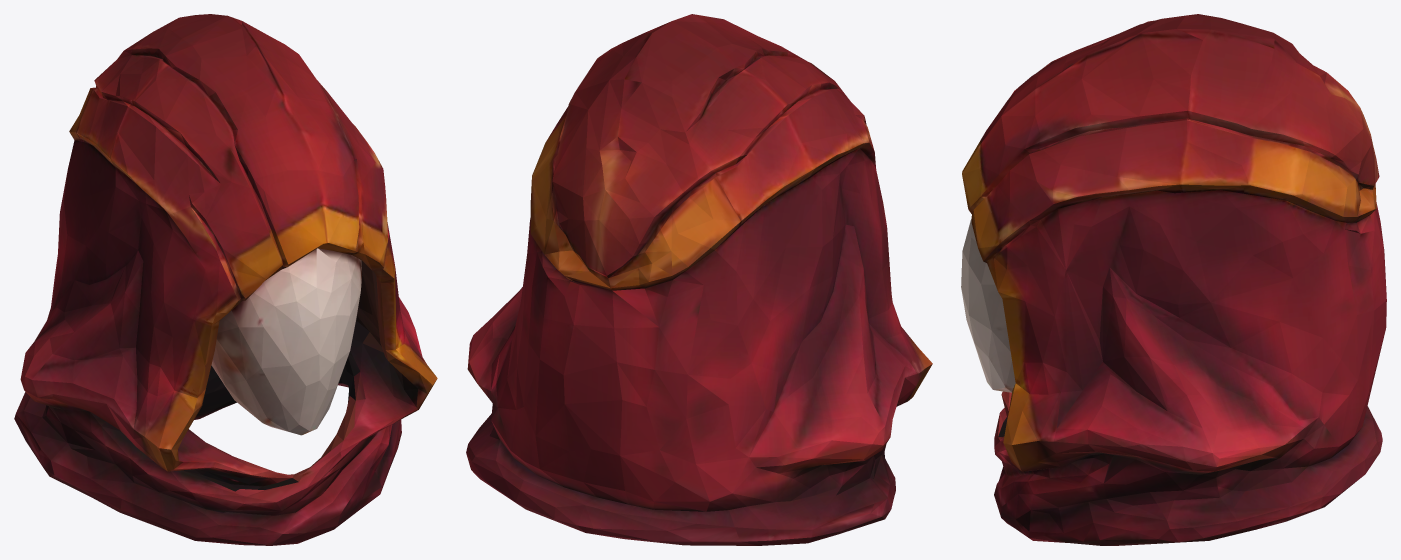
The model's file is dsa_sandblade_helm_lo.glb.
3 views of the same model, side by side, from view 1: azimuth 30°, elevation 25°; view 2: azimuth 150°, elevation 25°; view 3: azimuth 270°, elevation 25° (orthographic). The views are drawn at different scales.
Visible parts, largest first — view 1: tmpz_fh392k.ply; view 2: tmpz_fh392k.ply; view 3: tmpz_fh392k.ply.
Boxes of the visible parts, x1,y1,x2,y2 form: tmpz_fh392k.ply: (14, 14, 437, 545); tmpz_fh392k.ply: (466, 14, 932, 545); tmpz_fh392k.ply: (961, 14, 1386, 545).
Size of the model in its own units: 1.69 by 1.99 by 1.56.
Materials: 1 (1 with a texture image).
